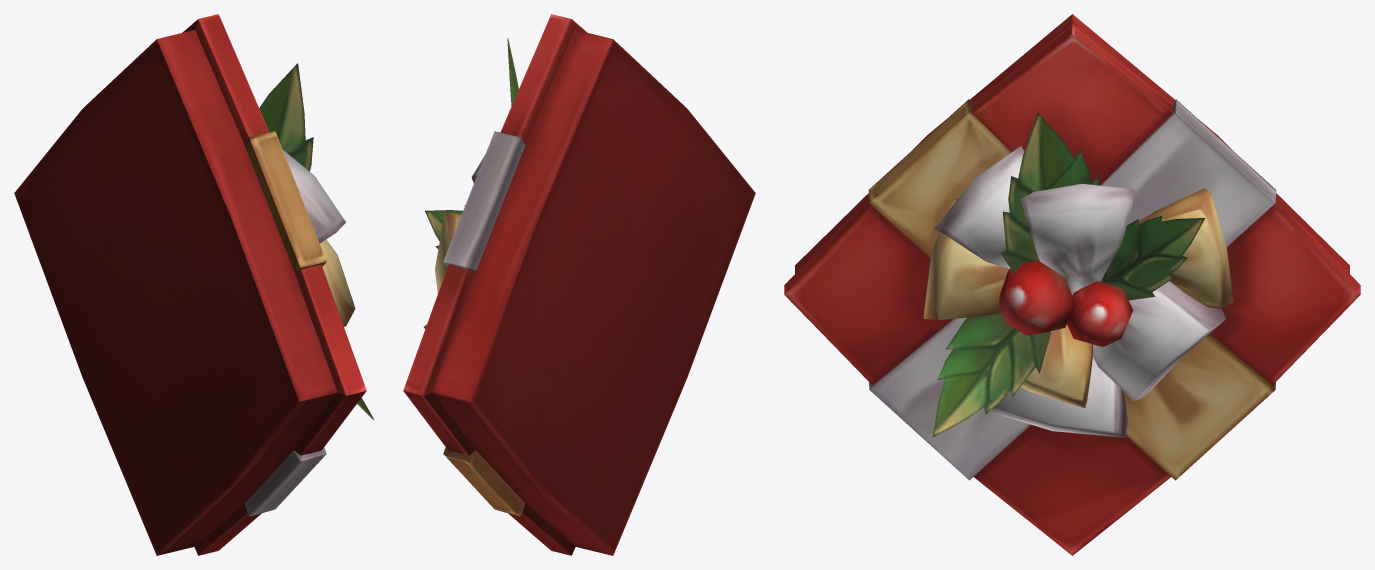
File: Hero_Phillop_Cos17Christmas_Shield.fbx
3 renders of one model, left to right at view 1: azimuth 30°, elevation 25°; view 2: azimuth 150°, elevation 25°; view 3: azimuth 270°, elevation 25°, orthographic. The views are drawn at different scales.
Visible parts, largest first — view 1: Hero_Phillop_Cos17Christmas_Shield; view 2: Hero_Phillop_Cos17Christmas_Shield; view 3: Hero_Phillop_Cos17Christmas_Shield.
Part boxes in pixels (box(x1,y1,x2,y2)): Hero_Phillop_Cos17Christmas_Shield: box(14, 14, 373, 555); Hero_Phillop_Cos17Christmas_Shield: box(403, 14, 755, 555); Hero_Phillop_Cos17Christmas_Shield: box(784, 14, 1360, 555).
Size of the model in its own units: 0.278 by 0.9765 by 0.9765.
